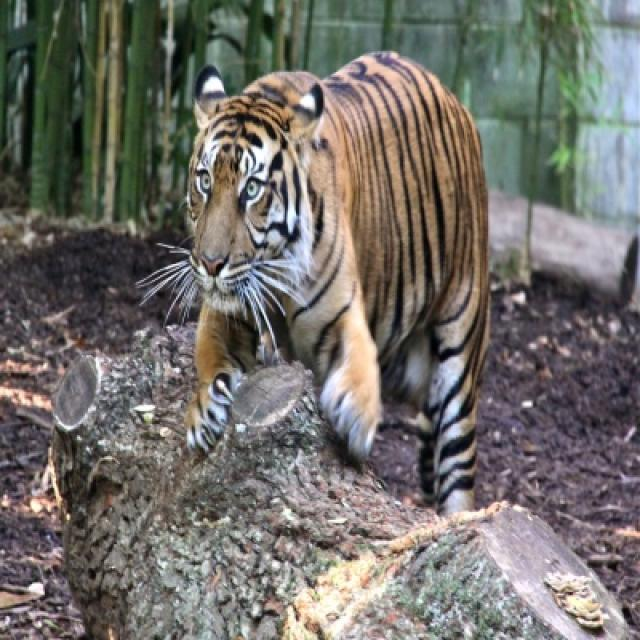Tiger: (188, 47, 495, 508)
